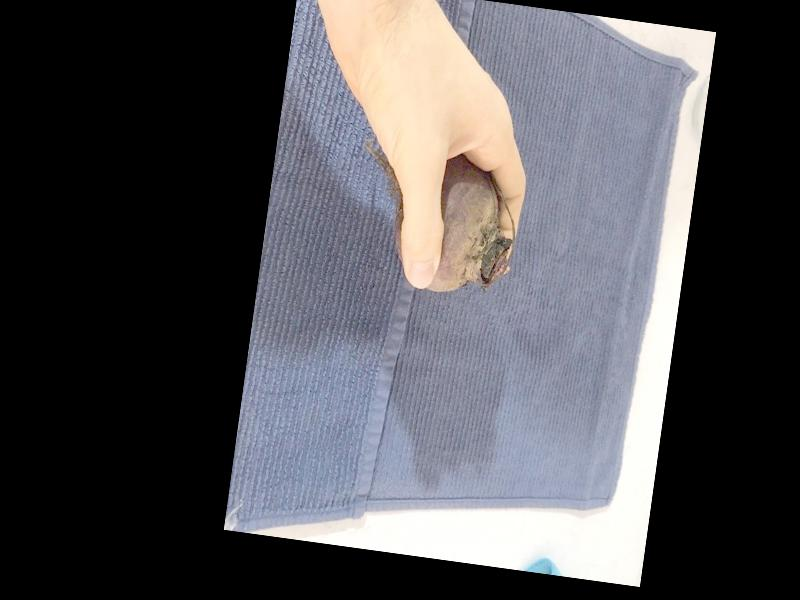Beet: (344, 144, 523, 302)
